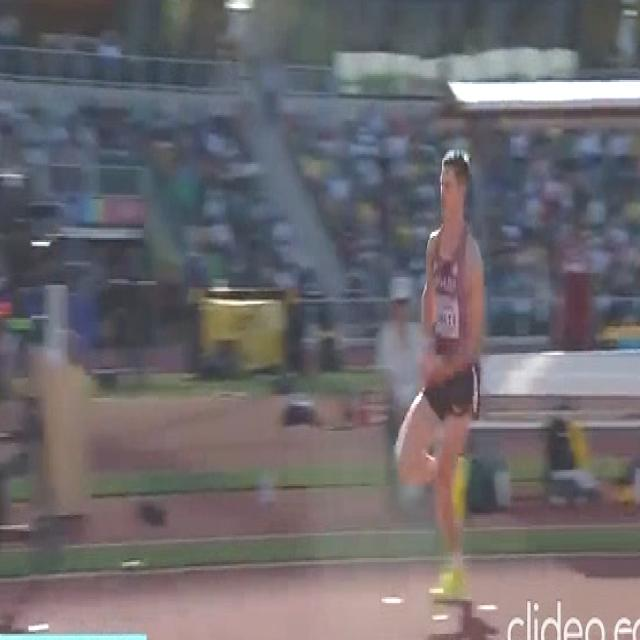run: (394, 150, 480, 599)
